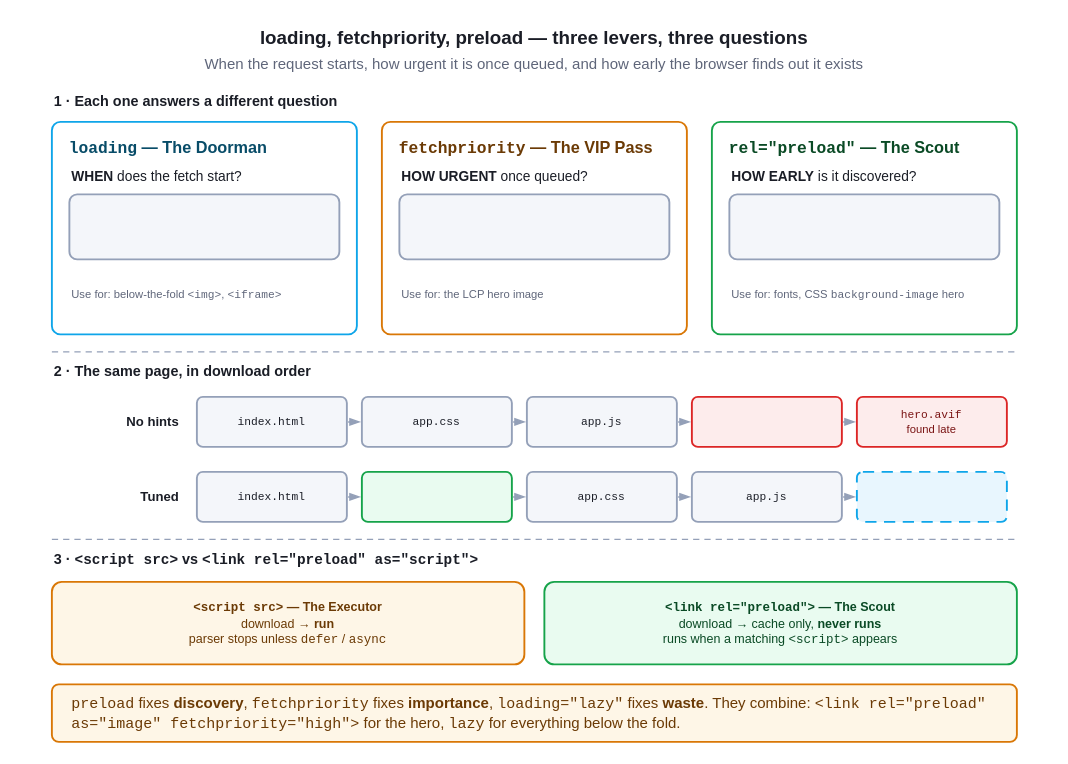
The diagram is 1068 pixels wide and 764 high, and some of its shapes have lost their labels. The shapes that lost their labels are listed below. From the top down, each one's centre as x and y in pixels, then its label:
the point at 204,226: lazy : wait until near the viewport eager : fetch now (default)
the point at 534,226: high : ahead of peers low : yield bandwidth · auto : default
the point at 864,226: declared in <head> , fetched before the CSS/JS that references it is parsed
the point at 766,421: row-9.avif wasted, offscreen
the point at 436,496: hero.avif preload + high
the point at 931,496: row-9.avif lazy: on scroll
